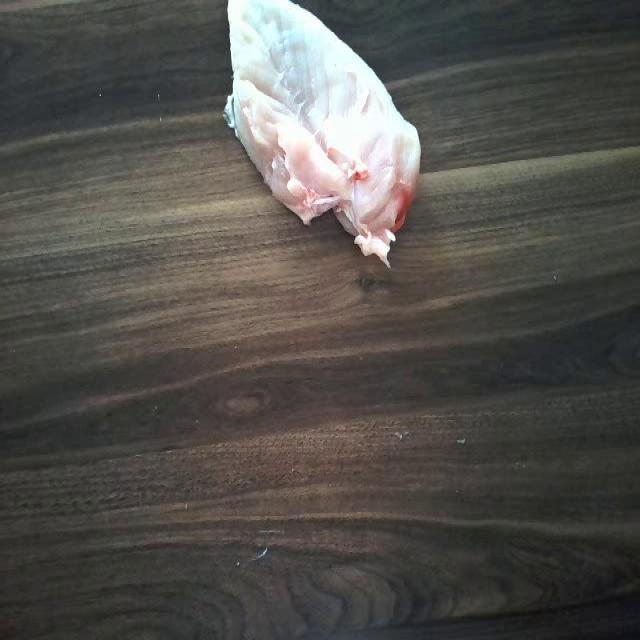breast: (213, 0, 427, 260)
